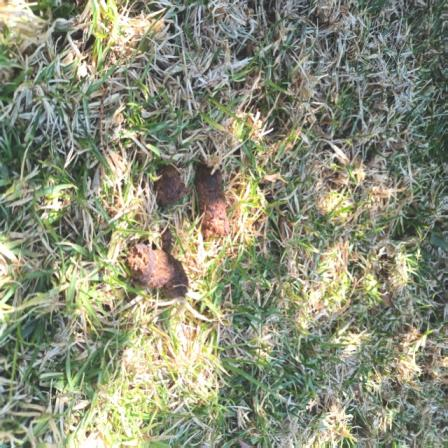dog-poop: (150, 153, 247, 234), (120, 236, 194, 297)
